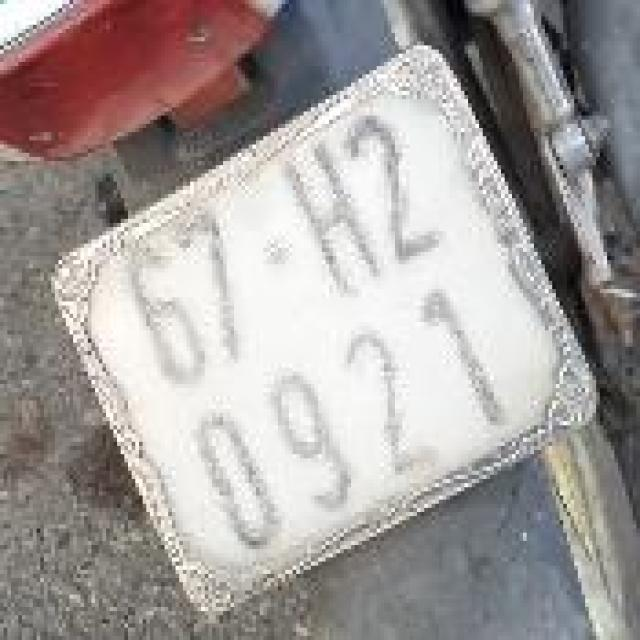0: (178, 395, 299, 567)
1: (404, 267, 530, 447)
2: (330, 97, 457, 280), (328, 309, 447, 488)
6: (106, 230, 226, 399)
7: (169, 196, 275, 375)
9: (244, 346, 374, 530)
H: (269, 133, 396, 309)
